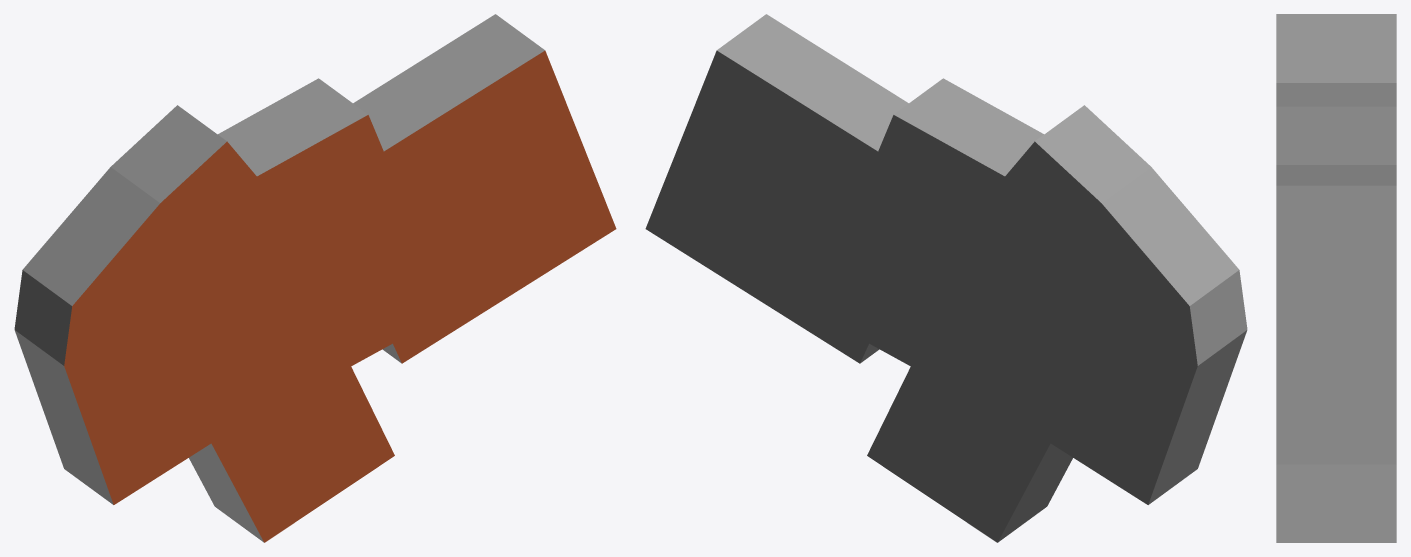
The model's file is construction_4227_assumed_A_Casa_h6m.obj.
The picture shows the model from 3 angles, left to right: view 1: azimuth 30°, elevation 25°; view 2: azimuth 150°, elevation 25°; view 3: azimuth 270°, elevation 25°; orthographic projection. The views are drawn at different scales.
Parts seen in each view (by area): view 1: construction_4227_assumed_A_Casa; view 2: construction_4227_assumed_A_Casa; view 3: construction_4227_assumed_A_Casa.
Part boxes in pixels (x1,y1,x2,y2): construction_4227_assumed_A_Casa: (14, 14, 616, 542); construction_4227_assumed_A_Casa: (645, 14, 1247, 542); construction_4227_assumed_A_Casa: (1276, 14, 1396, 542).
Size of the model in its own units: 38.48 by 28.23 by 6.
